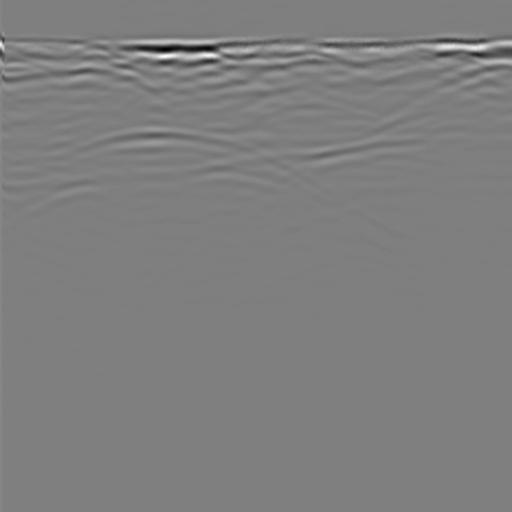hyperbola: (24, 117, 320, 222)
